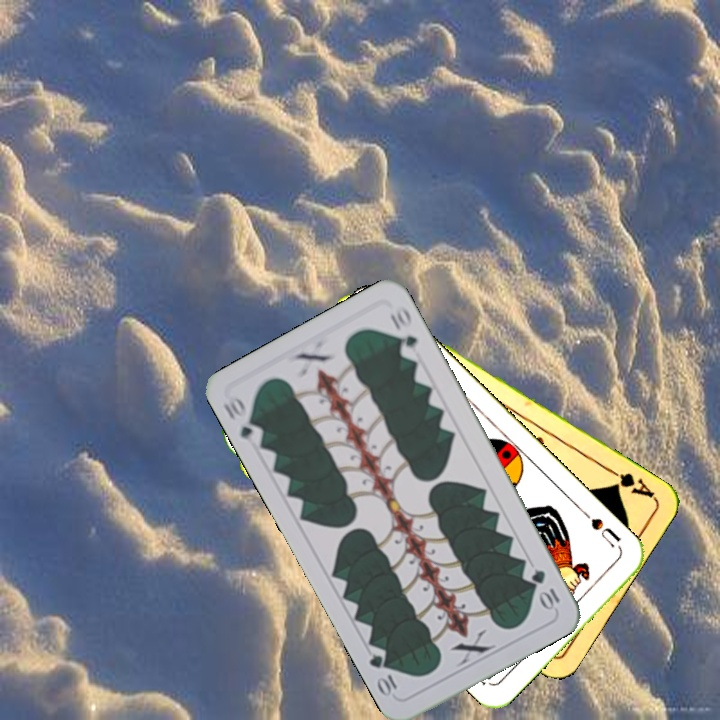G10: (219, 391, 266, 448), (527, 565, 563, 613)
GA: (603, 464, 658, 501)
SU: (578, 507, 624, 550)
